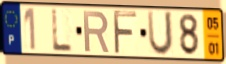1: (21, 6, 37, 53)
8: (178, 12, 201, 57)
F: (111, 9, 139, 56)
L: (51, 8, 75, 54)
R: (82, 9, 111, 54)
U: (146, 9, 174, 58)
